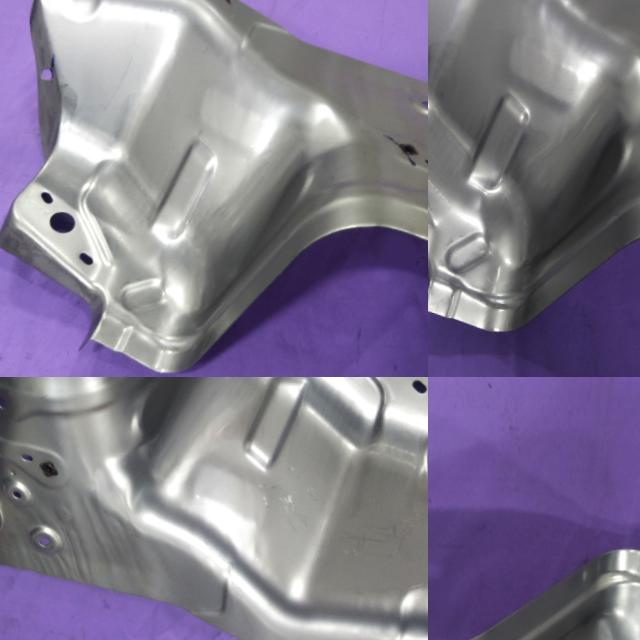Healthy: (0, 0, 428, 377), (0, 377, 428, 640), (428, 0, 640, 377), (428, 478, 640, 640)
